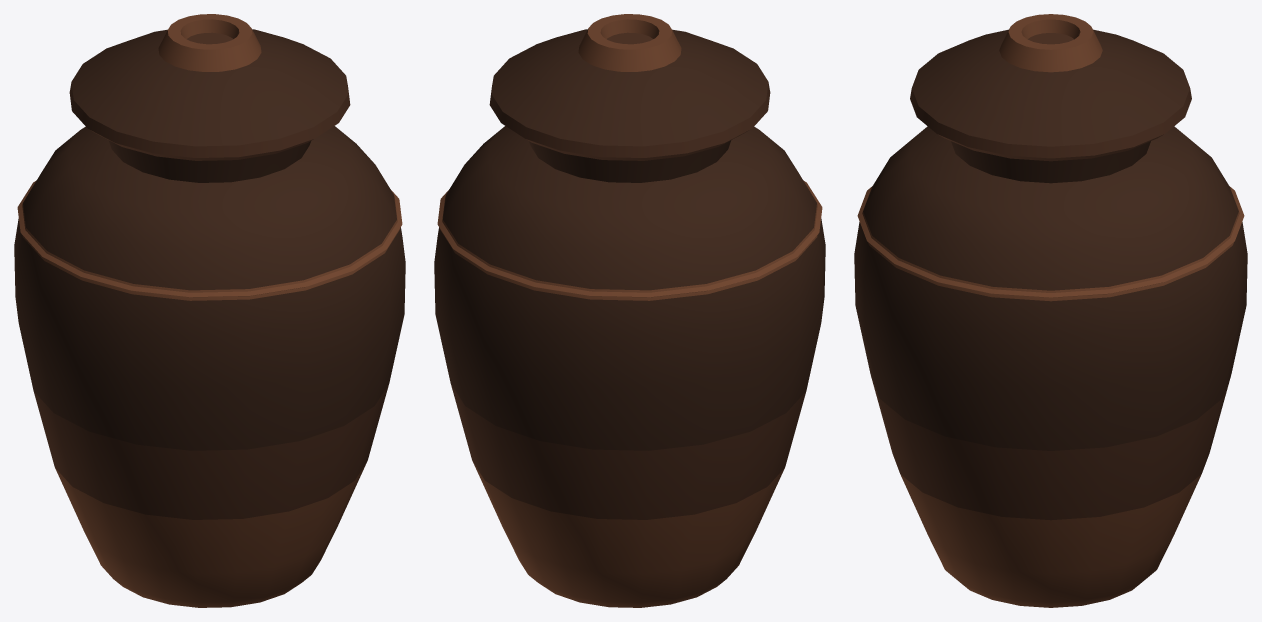
The model's file is SC_Home_Onggi_Jar_M.gltf.
3 renders of one model, left to right at view 1: azimuth 30°, elevation 25°; view 2: azimuth 150°, elevation 25°; view 3: azimuth 270°, elevation 25°, orthographic.
Visible parts, largest first — view 1: SC_Home_Onggi_Jar_M; view 2: SC_Home_Onggi_Jar_M; view 3: SC_Home_Onggi_Jar_M.
Boxes of the visible parts, left/top/right/bottom form: SC_Home_Onggi_Jar_M: left=14, top=14, right=405, bottom=607; SC_Home_Onggi_Jar_M: left=434, top=14, right=825, bottom=607; SC_Home_Onggi_Jar_M: left=854, top=14, right=1247, bottom=607.
Bounding box in the file's own units: 0.424 × 0.6346 × 0.424.
1 material, 1 textured.
